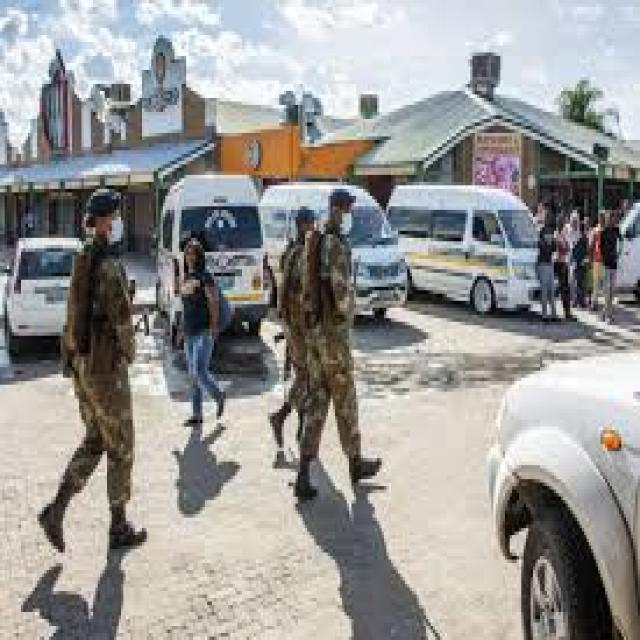MiniBus taxi: (384, 178, 552, 326), (158, 175, 268, 343)
Passenger Car: (481, 353, 640, 640), (2, 234, 86, 371)
Pedestrians: (37, 185, 149, 552), (291, 188, 382, 504), (177, 231, 235, 434)
